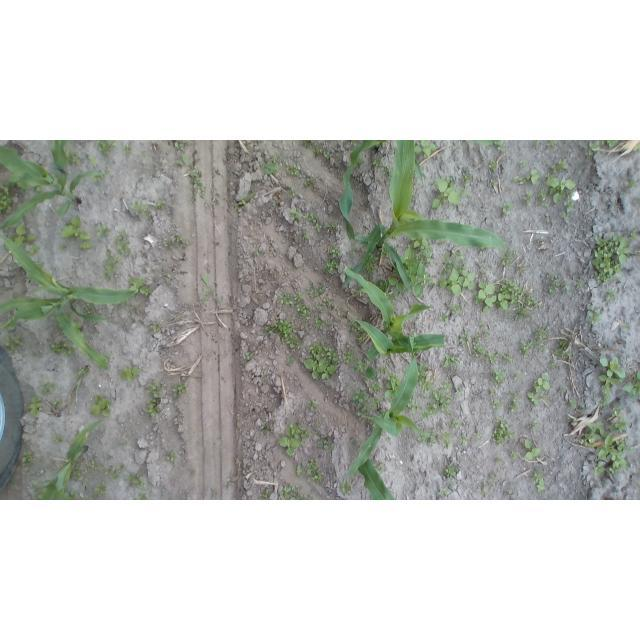Maize: (341, 140, 506, 288), (0, 234, 140, 370), (344, 335, 426, 479), (344, 266, 446, 358), (0, 141, 102, 224), (34, 419, 106, 500), (338, 141, 383, 240), (358, 458, 396, 500), (72, 367, 90, 402), (465, 140, 496, 146)
Weeds: (590, 236, 631, 285), (431, 174, 475, 210), (303, 340, 341, 380), (277, 422, 312, 456), (264, 320, 302, 349), (476, 280, 508, 313), (438, 269, 474, 298), (546, 172, 577, 205), (420, 388, 452, 418), (520, 324, 550, 356), (596, 357, 625, 387), (526, 373, 551, 406), (61, 216, 94, 241), (408, 263, 432, 297), (473, 330, 496, 363), (295, 457, 324, 483), (401, 239, 431, 264), (144, 383, 164, 417), (492, 416, 515, 445), (298, 141, 332, 160), (581, 420, 605, 446), (622, 367, 640, 401), (440, 248, 464, 272), (88, 394, 112, 417), (545, 273, 569, 296), (418, 363, 437, 392), (596, 434, 616, 461), (189, 167, 206, 198), (377, 272, 402, 293), (439, 305, 466, 324), (103, 251, 120, 281), (501, 279, 523, 302), (115, 228, 133, 256), (383, 373, 402, 399), (325, 245, 342, 272), (521, 438, 541, 460), (16, 222, 36, 244), (278, 484, 303, 501), (596, 385, 613, 410), (129, 277, 151, 296), (294, 292, 309, 319), (238, 190, 257, 211), (304, 209, 322, 231), (5, 333, 24, 353), (103, 465, 125, 482), (28, 396, 44, 419), (1, 184, 14, 212), (315, 434, 334, 453), (202, 273, 214, 303), (415, 140, 437, 156), (586, 305, 604, 324), (418, 428, 438, 445), (133, 200, 153, 217), (51, 341, 75, 355), (121, 366, 142, 382), (532, 471, 548, 492), (524, 292, 545, 308), (551, 158, 572, 174), (363, 253, 379, 274), (554, 337, 571, 355), (9, 175, 28, 191), (351, 323, 366, 343), (262, 160, 279, 177), (97, 140, 115, 156), (316, 300, 337, 313), (525, 168, 541, 185), (558, 200, 574, 217), (351, 389, 369, 404), (125, 473, 142, 488), (40, 381, 58, 395), (309, 283, 327, 297), (510, 392, 523, 411), (443, 355, 462, 368), (501, 249, 514, 268), (170, 383, 186, 398), (513, 306, 529, 321), (441, 432, 454, 450), (458, 327, 470, 346), (493, 371, 508, 386), (67, 150, 82, 165), (610, 421, 628, 433), (21, 451, 35, 466), (609, 405, 623, 420), (97, 221, 112, 235), (585, 141, 599, 156), (286, 164, 301, 177), (176, 153, 189, 168), (340, 480, 352, 496), (611, 454, 627, 466), (481, 480, 492, 497), (502, 201, 513, 218), (493, 141, 507, 154), (304, 176, 317, 190), (342, 351, 354, 366), (463, 172, 475, 187), (536, 188, 546, 206), (353, 360, 366, 373), (616, 438, 629, 450), (517, 262, 528, 276), (308, 399, 322, 410), (368, 381, 383, 391), (71, 467, 83, 479), (372, 395, 384, 407), (487, 160, 499, 172), (150, 321, 162, 333), (357, 407, 370, 418), (175, 236, 188, 247), (408, 401, 422, 411), (444, 465, 458, 475), (604, 291, 618, 301), (479, 320, 494, 329), (504, 351, 516, 362), (326, 221, 337, 233), (281, 294, 292, 306), (626, 180, 640, 189), (96, 484, 108, 494), (525, 189, 533, 204), (450, 420, 463, 429), (548, 360, 561, 369), (442, 379, 453, 389), (593, 464, 603, 475), (29, 245, 40, 255), (316, 319, 325, 331), (349, 245, 359, 255), (284, 354, 294, 364), (65, 491, 76, 500), (167, 453, 178, 462), (459, 435, 470, 444), (176, 140, 188, 148), (607, 140, 619, 148), (136, 493, 149, 500), (440, 487, 449, 497), (492, 400, 502, 409), (577, 278, 586, 288), (532, 140, 542, 149), (291, 186, 300, 196), (513, 176, 523, 185), (494, 454, 505, 462), (622, 322, 633, 330), (490, 473, 502, 480), (79, 243, 93, 249), (263, 490, 272, 499), (510, 451, 519, 460), (88, 156, 97, 165), (91, 459, 99, 469), (548, 140, 558, 148), (291, 209, 299, 219), (303, 230, 309, 243), (53, 435, 62, 443), (512, 372, 521, 380), (568, 400, 577, 408), (156, 200, 164, 209), (124, 146, 132, 155), (556, 387, 566, 394), (84, 305, 94, 312), (243, 352, 251, 360), (449, 483, 457, 491), (507, 490, 515, 498), (629, 230, 636, 239), (474, 432, 483, 439), (164, 241, 173, 248), (54, 399, 62, 406), (519, 159, 527, 166), (380, 367, 389, 373), (490, 179, 499, 185), (92, 177, 102, 182), (532, 421, 539, 428), (60, 245, 68, 251), (456, 390, 465, 395), (373, 159, 379, 166), (89, 496, 97, 501), (350, 140, 359, 144), (610, 468, 617, 473), (489, 389, 494, 395), (634, 146, 640, 151), (255, 252, 259, 256)
